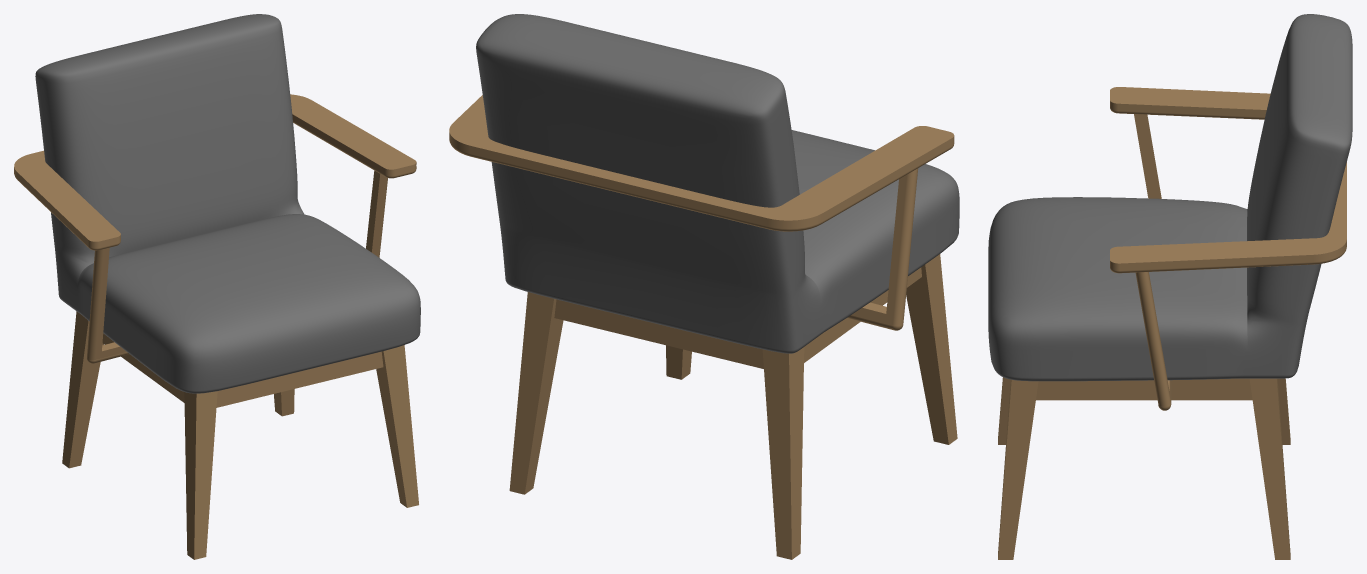
File: 547_ダイニングソファ1人掛け.glb
The picture shows the model from 3 angles, left to right: view 1: azimuth 30°, elevation 25°; view 2: azimuth 150°, elevation 25°; view 3: azimuth 270°, elevation 25°; orthographic projection. The views are drawn at different scales.
Visible parts, largest first — view 1: Body; view 2: Body; view 3: Body.
Part boxes in pixels (<box>): Body: <box>14,14,420,559</box>; Body: <box>449,14,959,559</box>; Body: <box>988,14,1352,559</box>.
Size of the model in its own units: 0.6783 by 0.7691 by 0.5912.
